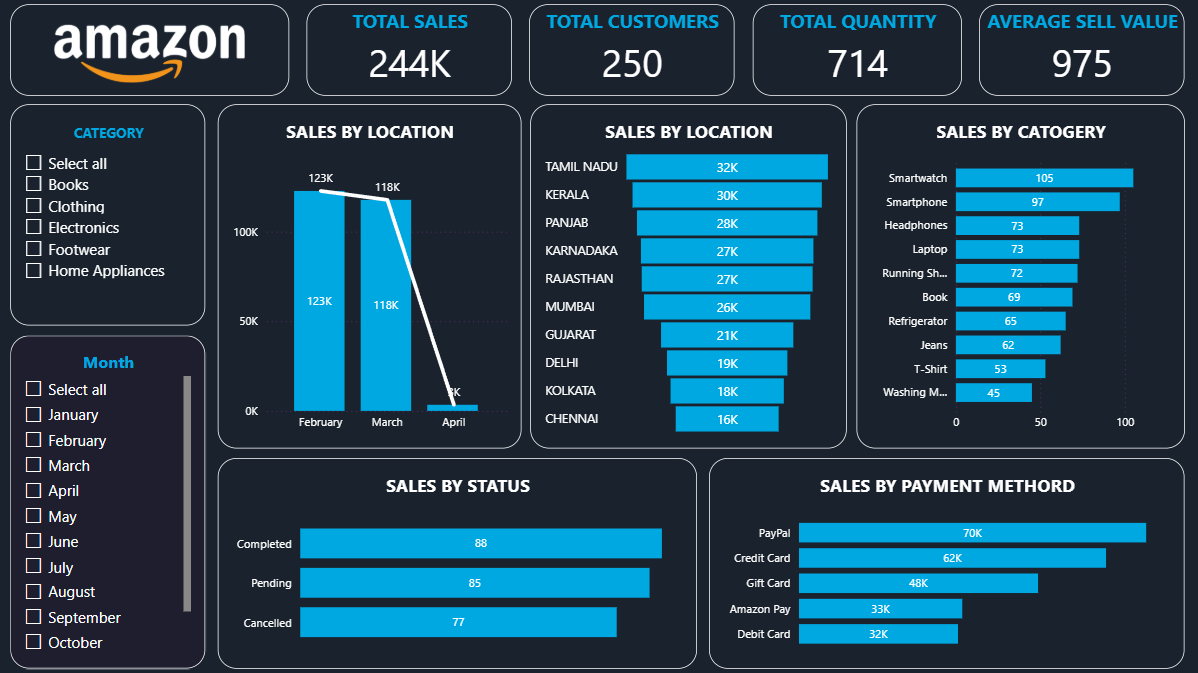

The dashboard page shown, as its layout file describes it:
{"tool":"powerbi","page":{"name":"amazon sales ","canvas":[1280,720],"ordinal":0},"visuals":[{"type":"clusteredBarChart","title":"SALES BY PAYMENT METHORD","fields":{"Category":["amazon_sales_data 2025.Payment Method"],"Y":["Sum(amazon_sales_data 2025.Total Sales)"]},"box":[757.5,490,507.5,225],"z":0},{"type":"funnel","title":"SALES BY LOCATION","fields":{"Category":["amazon_sales_data 2025.Customer Location"],"Y":["Sum(amazon_sales_data 2025.Total Sales)"]},"box":[566.2,113.8,337.5,367.5],"z":1000},{"type":"card","title":"AVERAGE SELL VALUE","fields":{"Values":["amazon_sales_data 2025.AVERAGE SELL VALUE"]},"box":[1045.1,6.1,219.5,97.6],"z":2000},{"type":"card","title":"TOTAL QUANTITY","fields":{"Values":["amazon_sales_data 2025.TOTAL QUANTITY"]},"box":[803.7,6.1,223.2,97.6],"z":3000},{"type":"card","title":"TOTAL CUSTOMERS","fields":{"Values":["amazon_sales_data 2025.TOTAL CUSTOMERS"]},"box":[565.9,6.1,219.5,97.6],"z":4000},{"type":"card","title":"TOTAL SALES","fields":{"Values":["amazon_sales_data 2025.TOTAL AMZONE SALES VALUE"]},"box":[328,6.1,219.5,97.6],"z":5000},{"type":"group","id":"g1","title":"Group 1","box":[12.2,6.1,297.6,97.6],"z":6000},{"type":"lineClusteredColumnComboChart","title":"SALES BY LOCATION","fields":{"Category":["amazon_sales_data 2025.Date.Variation.Date Hierarchy.Month"],"Y":["Sum(amazon_sales_data 2025.Total Sales)"],"Y2":["Sum(amazon_sales_data 2025.Total Sales)"]},"box":[233.8,113.8,323.8,367.5],"z":7000},{"type":"barChart","title":"SALES BY CATOGERY","fields":{"Category":["amazon_sales_data 2025.Product"],"Y":["Sum(amazon_sales_data 2025.Quantity)"]},"box":[915,113.8,350,367.5],"z":8000},{"type":"clusteredBarChart","title":"SALES BY STATUS","fields":{"Category":["amazon_sales_data 2025.Status"],"Y":["CountNonNull(amazon_sales_data 2025.Customer Name)"]},"box":[233.8,490,511.2,225],"z":9000},{"type":"shape","box":[12.2,6.1,297.6,97.6],"z":10000,"group":"g1"},{"type":"listSlicer","title":"CATEGORY","fields":{"Values":["amazon_sales_data 2025.Category"]},"box":[12.5,113.9,208.3,236.1],"z":10000},{"type":"image","box":[41.5,12.2,239,91.5],"z":11000,"group":"g1"},{"type":"listSlicer","fields":{"Values":["amazon_sales_data 2025.Date.Variation.Date Hierarchy.Month"]},"box":[12.5,359.7,208.3,355.6],"z":11000}]}

Visuals, with their boxes in screenshot pixels (x1, y1, x2, y2), scaled from the page's 1280x720 canvas onto the 1198x673 screenshot:
"SALES BY PAYMENT METHORD" clusteredBarChart: region(709, 458, 1184, 668)
"SALES BY LOCATION" funnel: region(530, 106, 846, 450)
"AVERAGE SELL VALUE" card: region(978, 6, 1184, 97)
"TOTAL QUANTITY" card: region(752, 6, 961, 97)
"TOTAL CUSTOMERS" card: region(530, 6, 735, 97)
"TOTAL SALES" card: region(307, 6, 512, 97)
"Group 1" group: region(11, 6, 290, 97)
"SALES BY LOCATION" lineClusteredColumnComboChart: region(219, 106, 522, 450)
"SALES BY CATOGERY" barChart: region(856, 106, 1184, 450)
"SALES BY STATUS" clusteredBarChart: region(219, 458, 697, 668)
shape: region(11, 6, 290, 97)
"CATEGORY" listSlicer: region(12, 106, 207, 327)
image: region(39, 11, 263, 97)
listSlicer - amazon_sales_data 2025.Date.Variation.Date Hierarchy.Month: region(12, 336, 207, 669)
